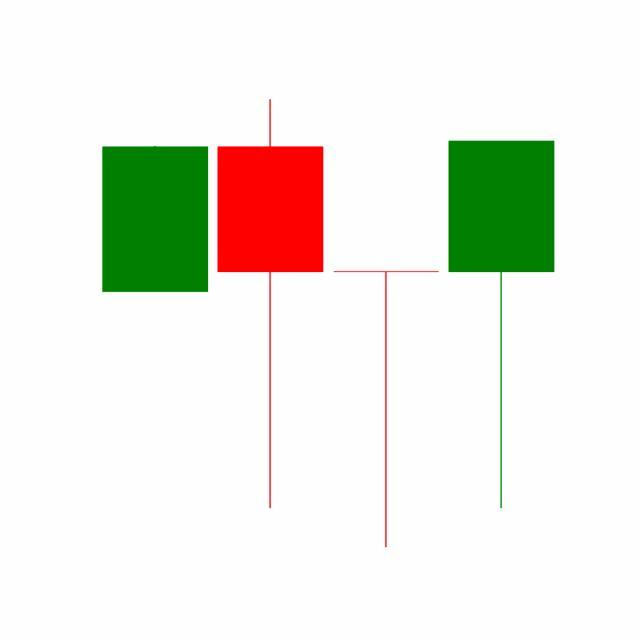Hanging Man: (444, 137, 560, 512)
